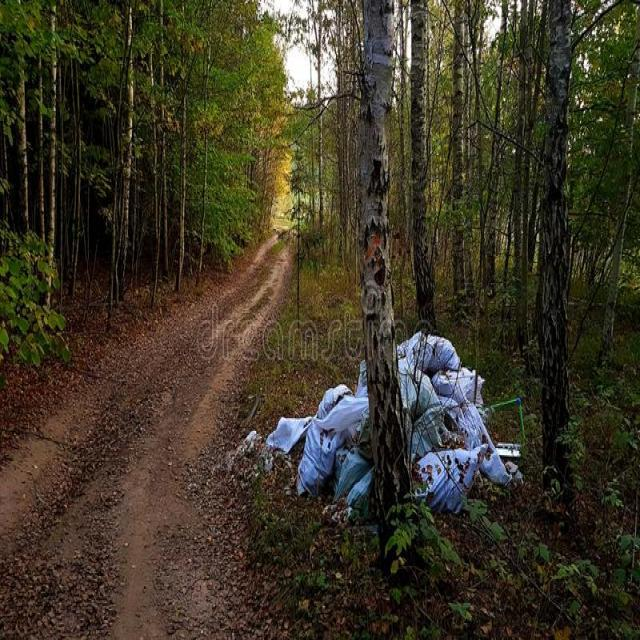garbage: (258, 327, 522, 530)
